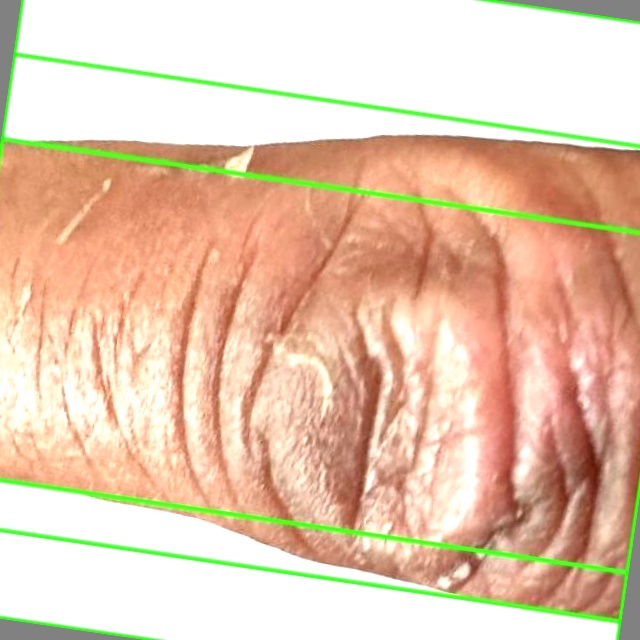Contact Dermatitis: (0, 54, 639, 621), (2, 0, 639, 232), (0, 480, 627, 639)
